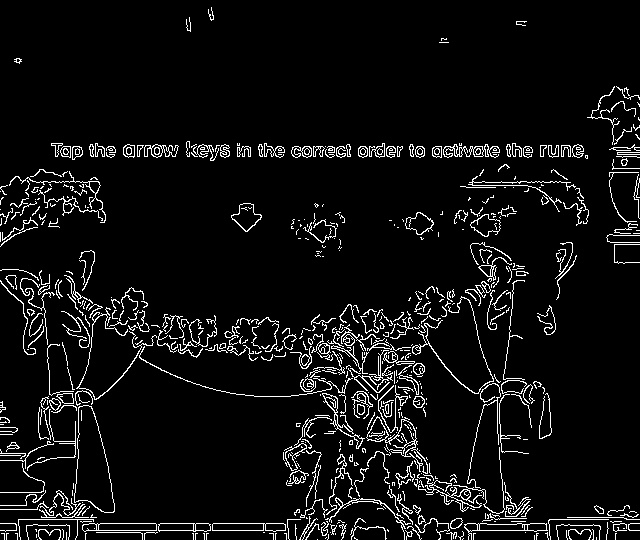rune_box: (154, 175, 572, 272)
